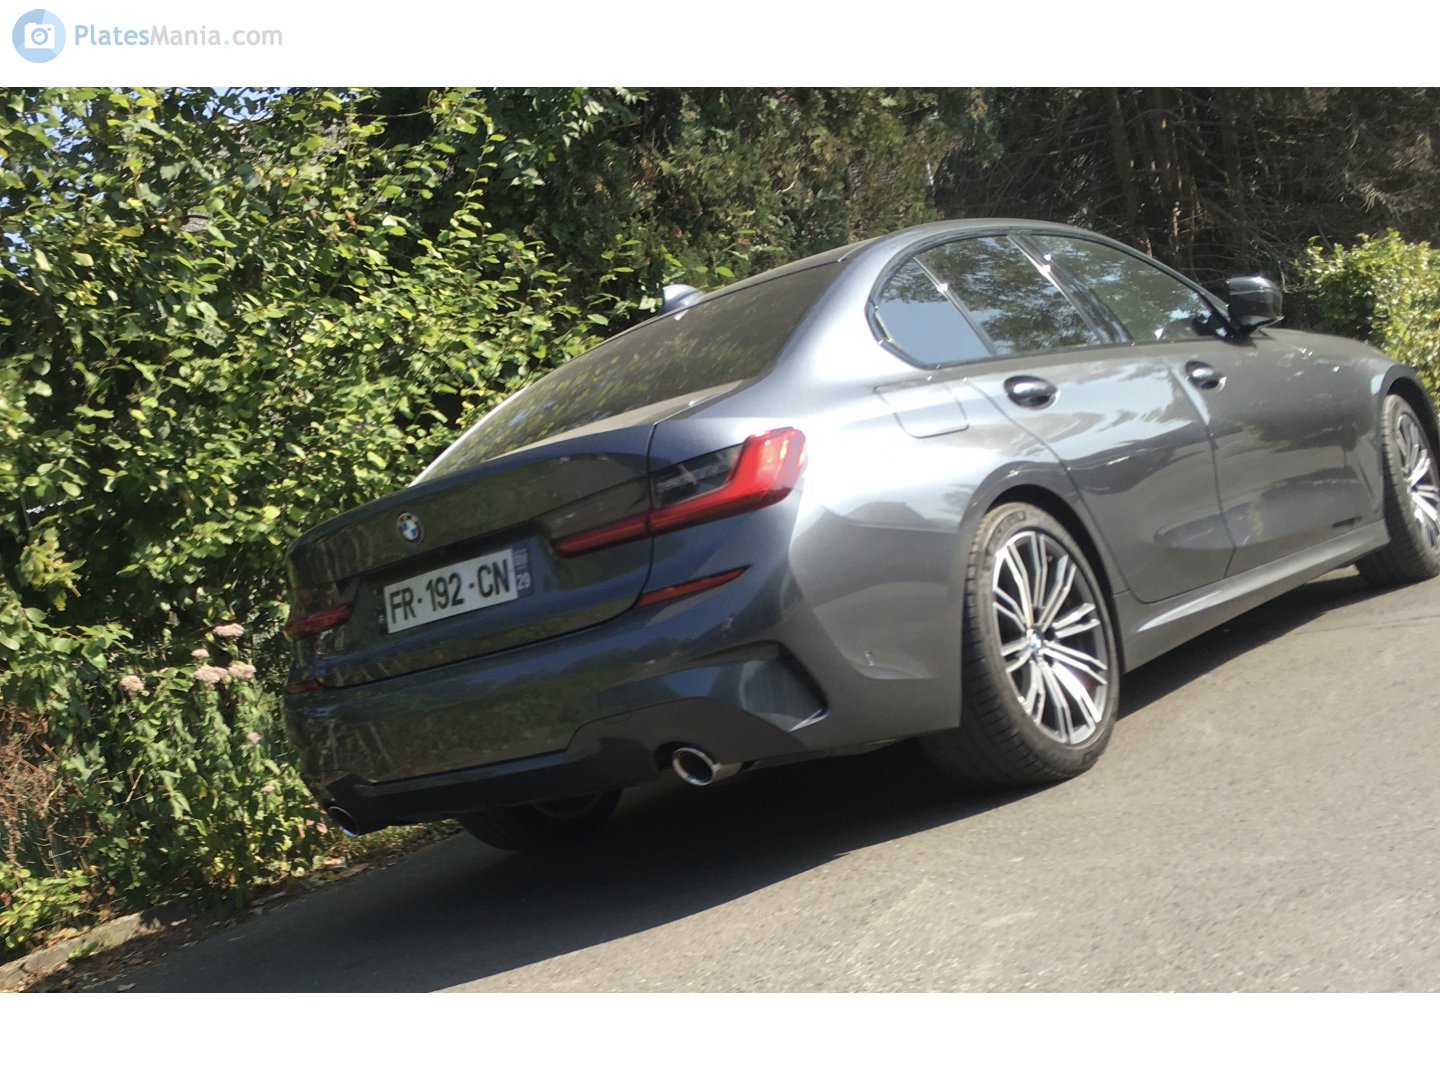licence plate: (371, 539, 534, 644)
